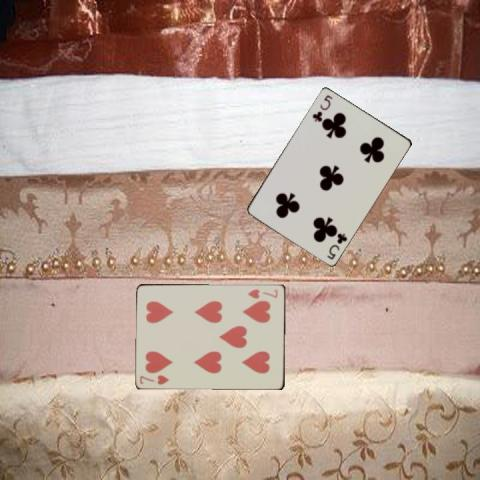5c: (309, 91, 334, 123), (324, 230, 349, 261)
7h: (245, 286, 279, 300), (137, 372, 171, 385)
